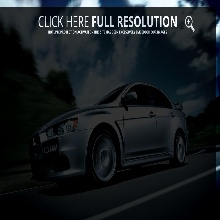no damage: (29, 82, 193, 184)
